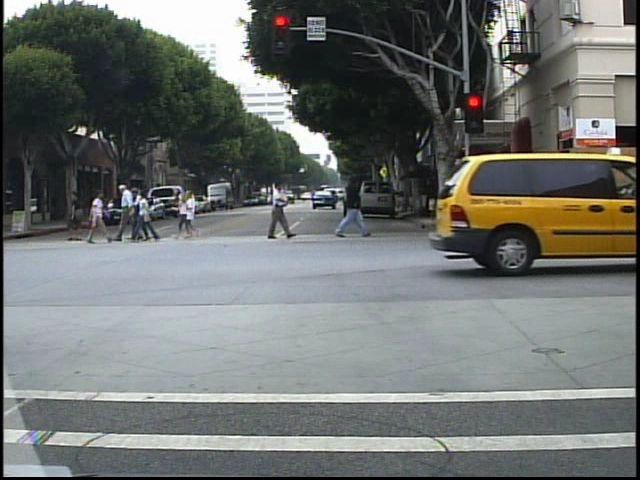person: (333, 164, 376, 244), (81, 187, 112, 250), (262, 181, 291, 239), (134, 187, 156, 245), (119, 179, 137, 245), (67, 186, 85, 241), (138, 184, 143, 243)
